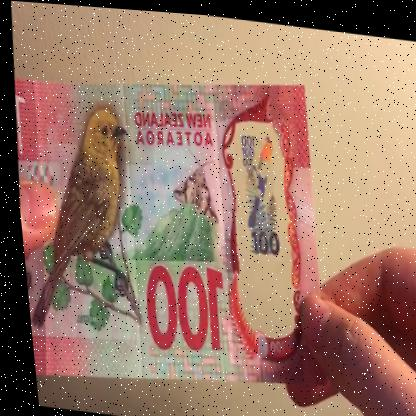100B: (223, 119, 289, 305)
